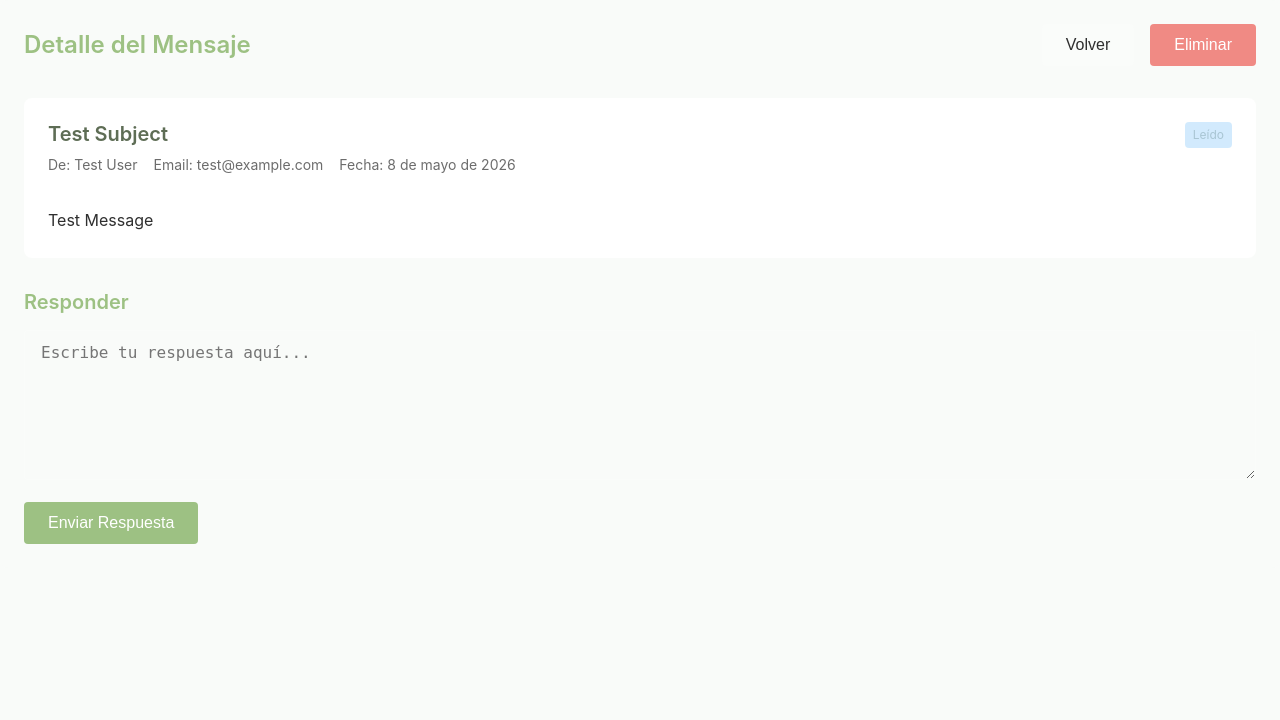
Scenario: MessageDetail › envía una respuesta al mensaje correctamente
Expected: the heading "Responder" is shown, [24, 290, 129, 314]
Type "Test Reply" into the text box with placeholder "Escribe tu respuesta aquí..." at (640, 405), box [24, 330, 1256, 480]
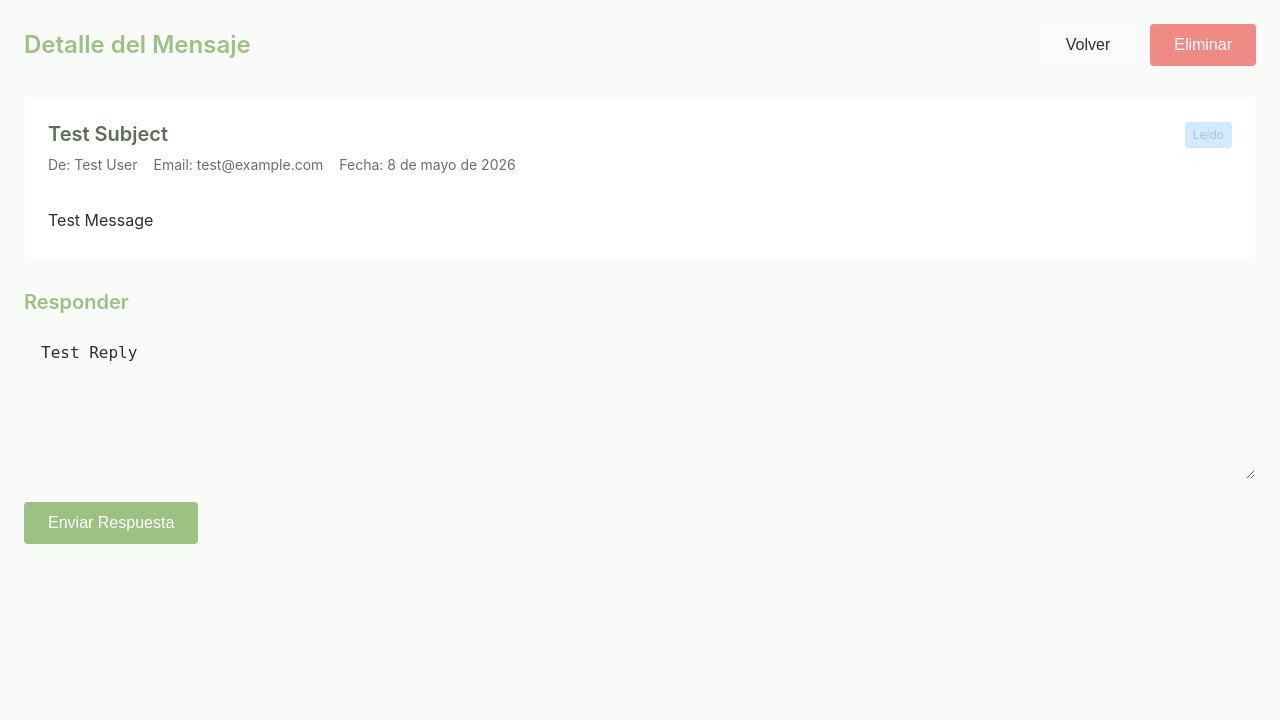
Click the button "Enviar Respuesta" at (111, 523), box [24, 502, 198, 544]
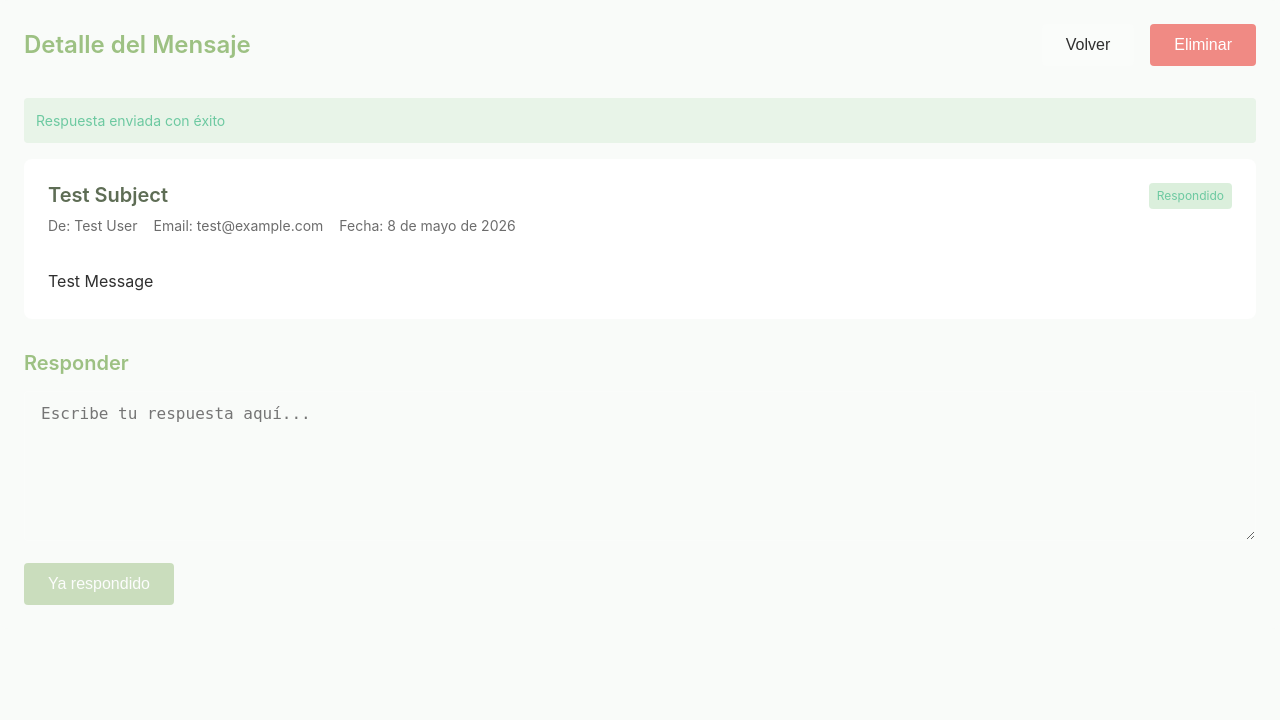
Now the text "Respuesta enviada con éxito" is shown, box [24, 98, 1256, 143]
